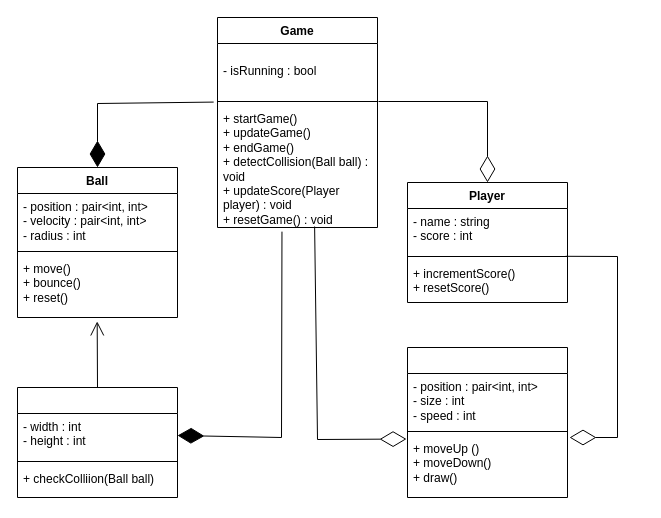
Image size: 661x518. Some labels were removed from this diagram. The shapes that lost their labels are listed below. From the top down, each one's box as (x1, y1, x2, y2) in pixels, then its label:
(16, 386, 178, 498): Boundary
(406, 346, 568, 498): Paddle
